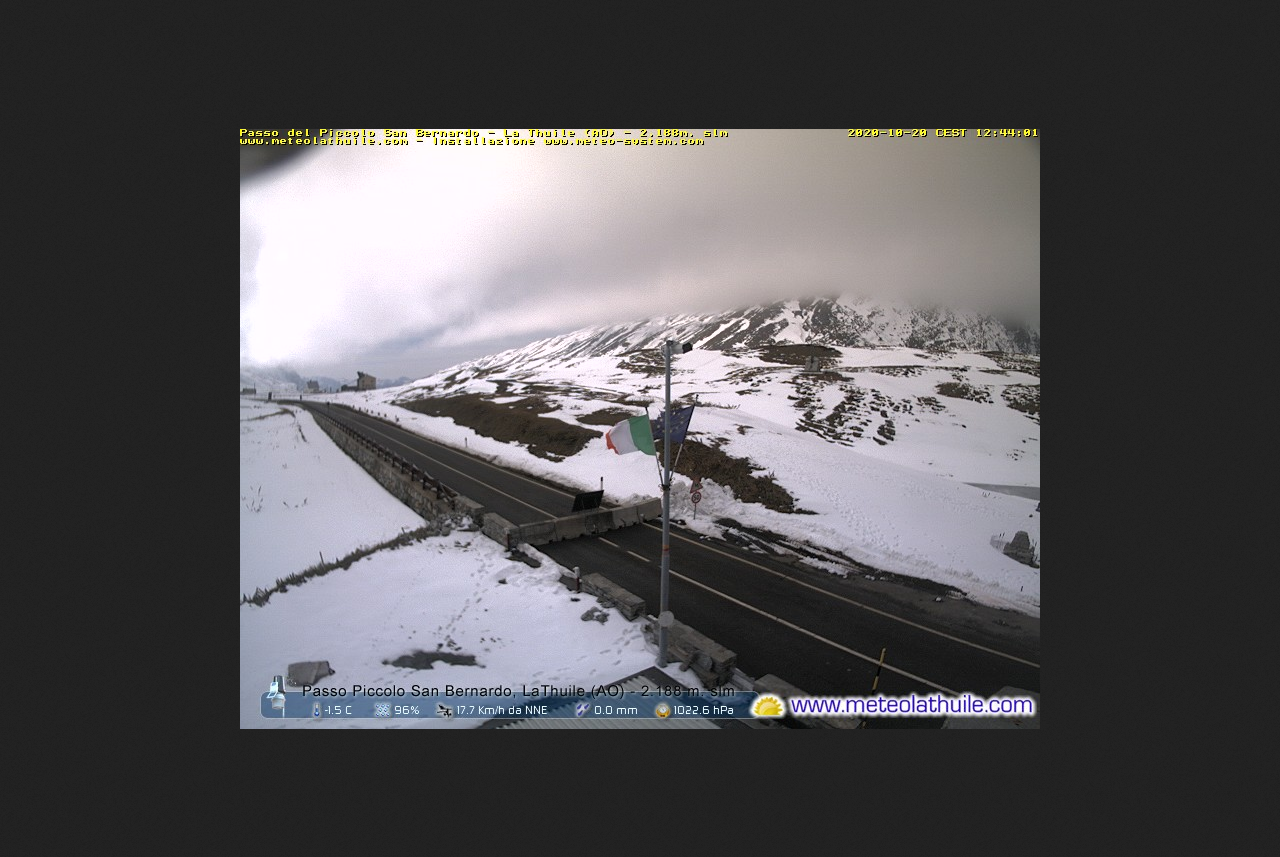yes: (603, 416, 658, 459), (652, 405, 691, 449)
